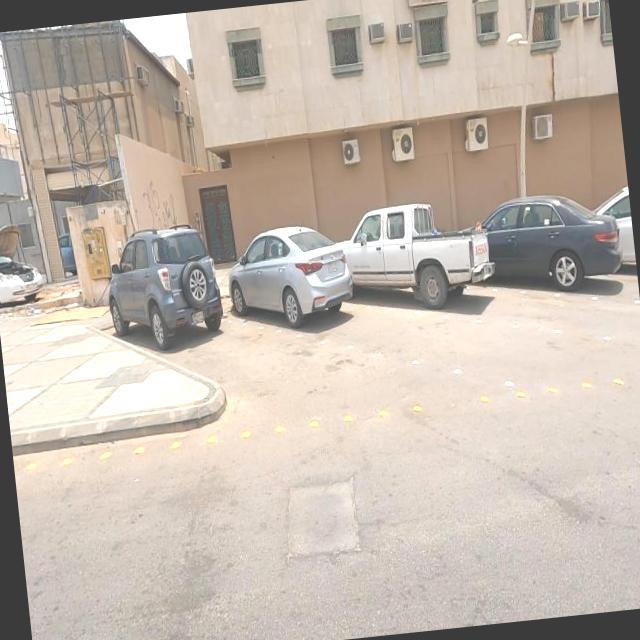debris: (118, 151, 204, 257)
